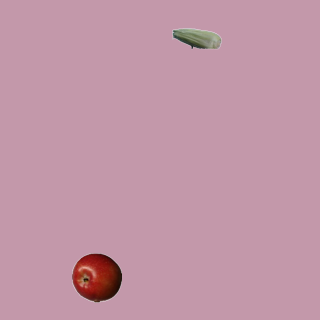Apple Braeburn: (71, 252, 121, 302)
Corn Husk: (171, 13, 221, 63)
